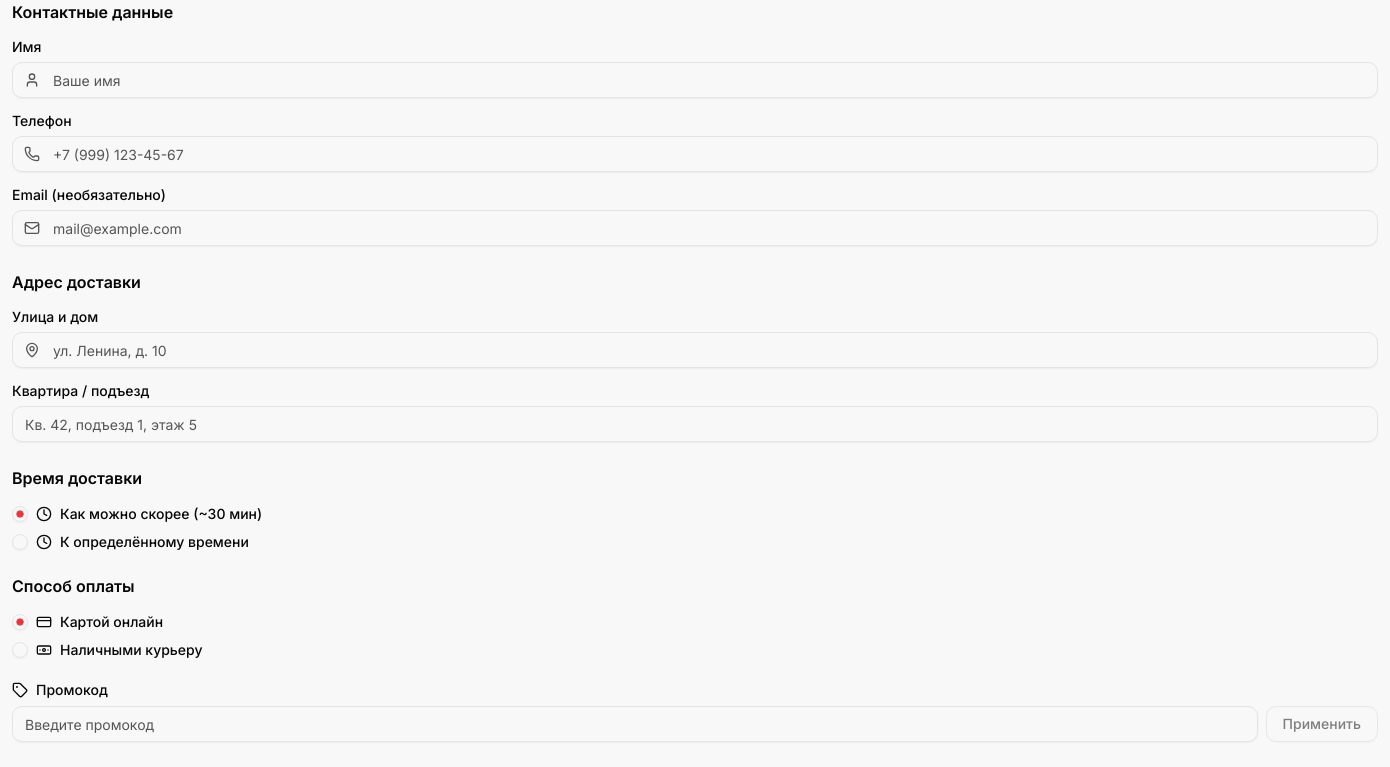
Scenario: CheckoutForm › validates required fields
// Clear name
Clear the field labelled "Имя". click: (695, 80)
box: [12, 62, 1378, 98]
(page scrolled)
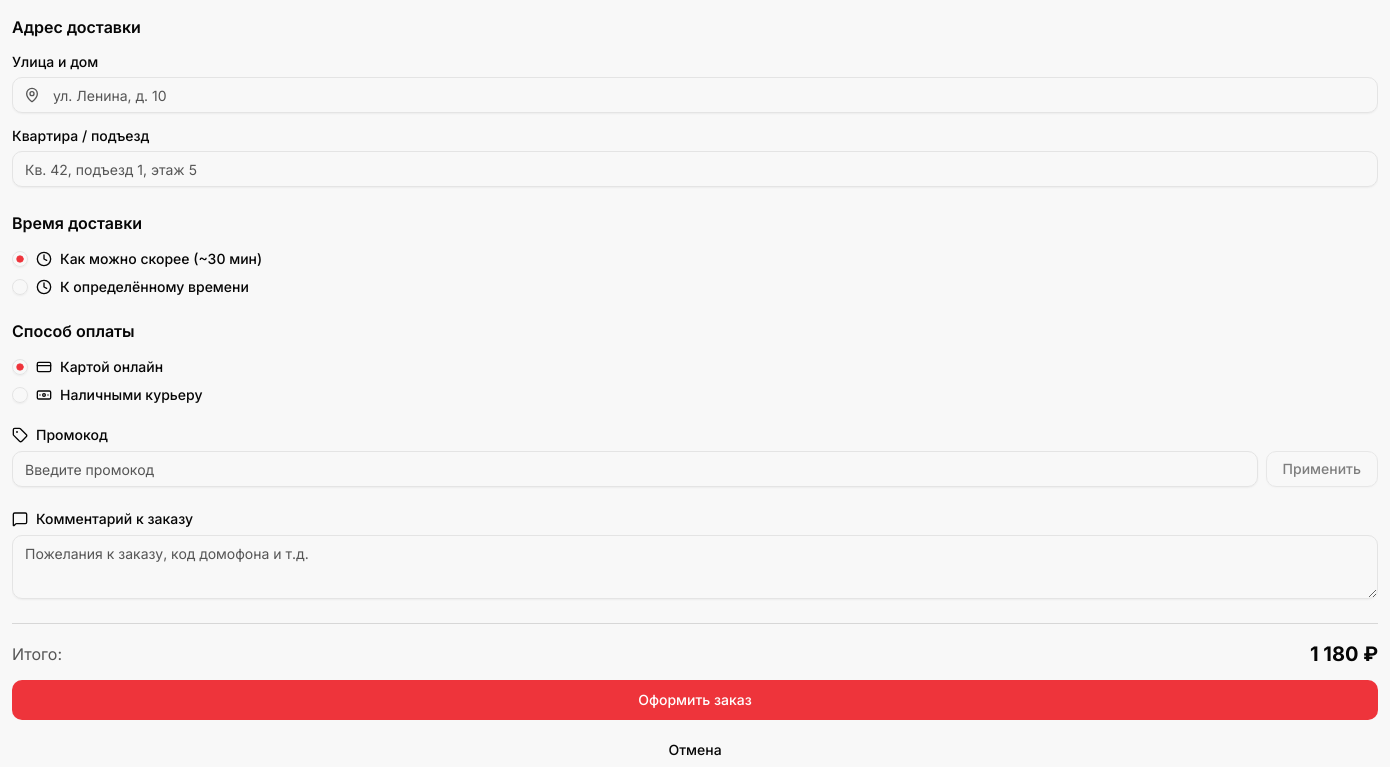
Click the button "Оформить заказ". click: (695, 700)
box: [12, 680, 1378, 720]
(page scrolled)
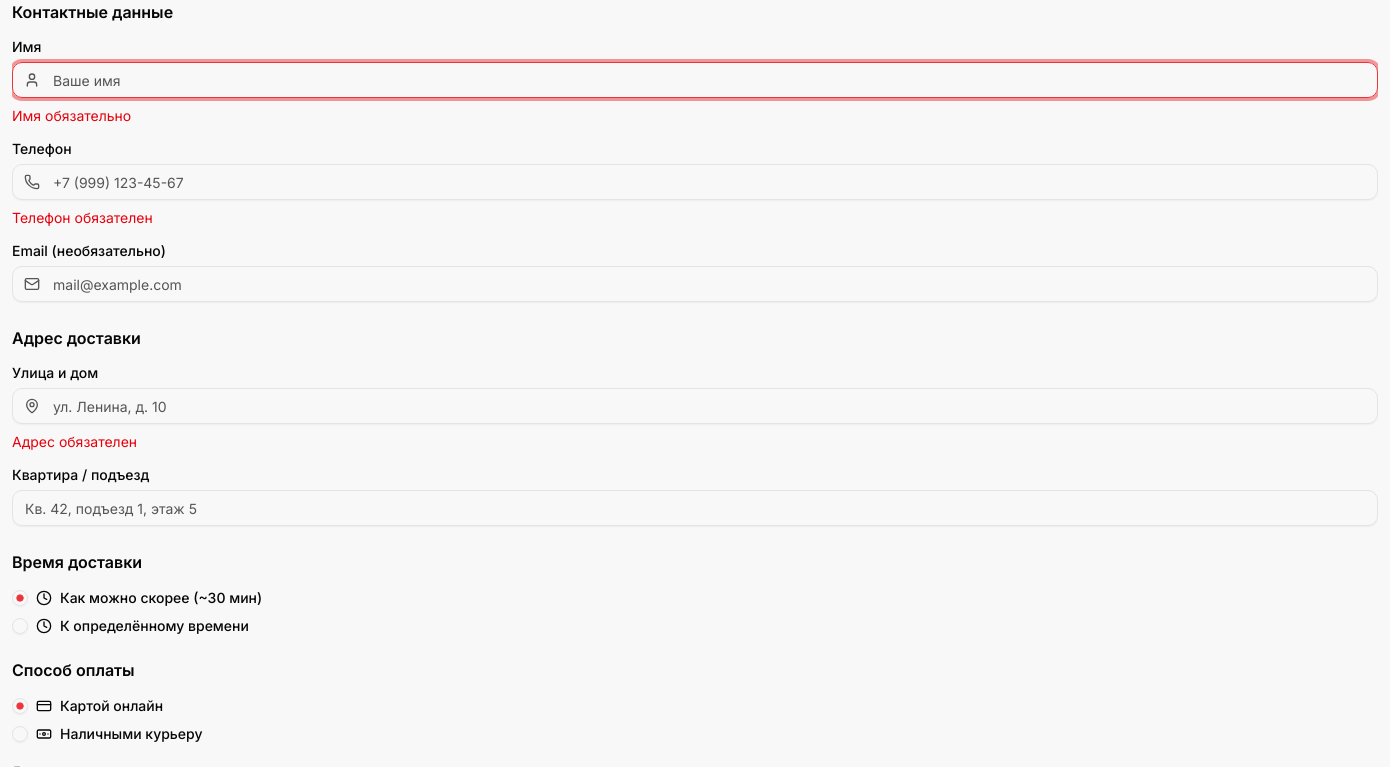
Now the text "Имя обязательно" is shown, box [12, 107, 131, 124]
